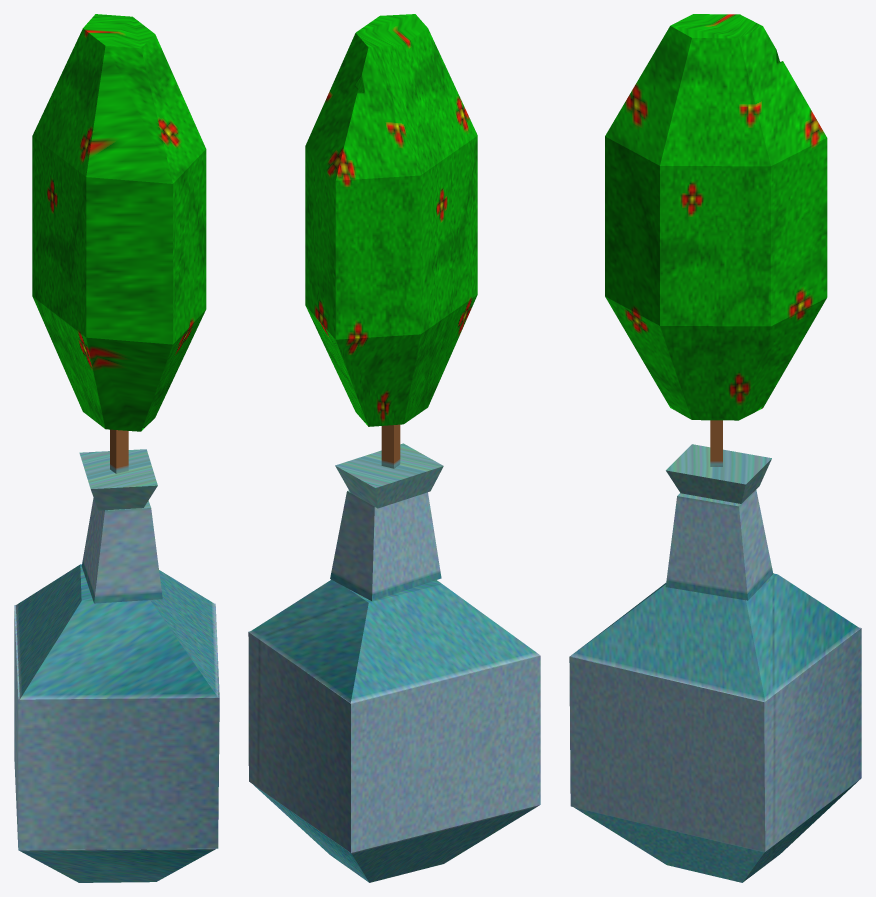
The model's file is Plant.glb.
3 renders of one model, left to right at view 1: azimuth 30°, elevation 25°; view 2: azimuth 150°, elevation 25°; view 3: azimuth 270°, elevation 25°, orthographic.
Parts seen in each view (by area): view 1: Plant; view 2: Plant; view 3: Plant.
Boxes of the visible parts, x1,y1,x2,y2 form: Plant: [14, 14, 219, 882]; Plant: [248, 14, 540, 882]; Plant: [569, 14, 861, 882].
Size of the model in its own units: 25.44 by 82.49 by 26.22.
Materials: 1 (1 with a texture image).
